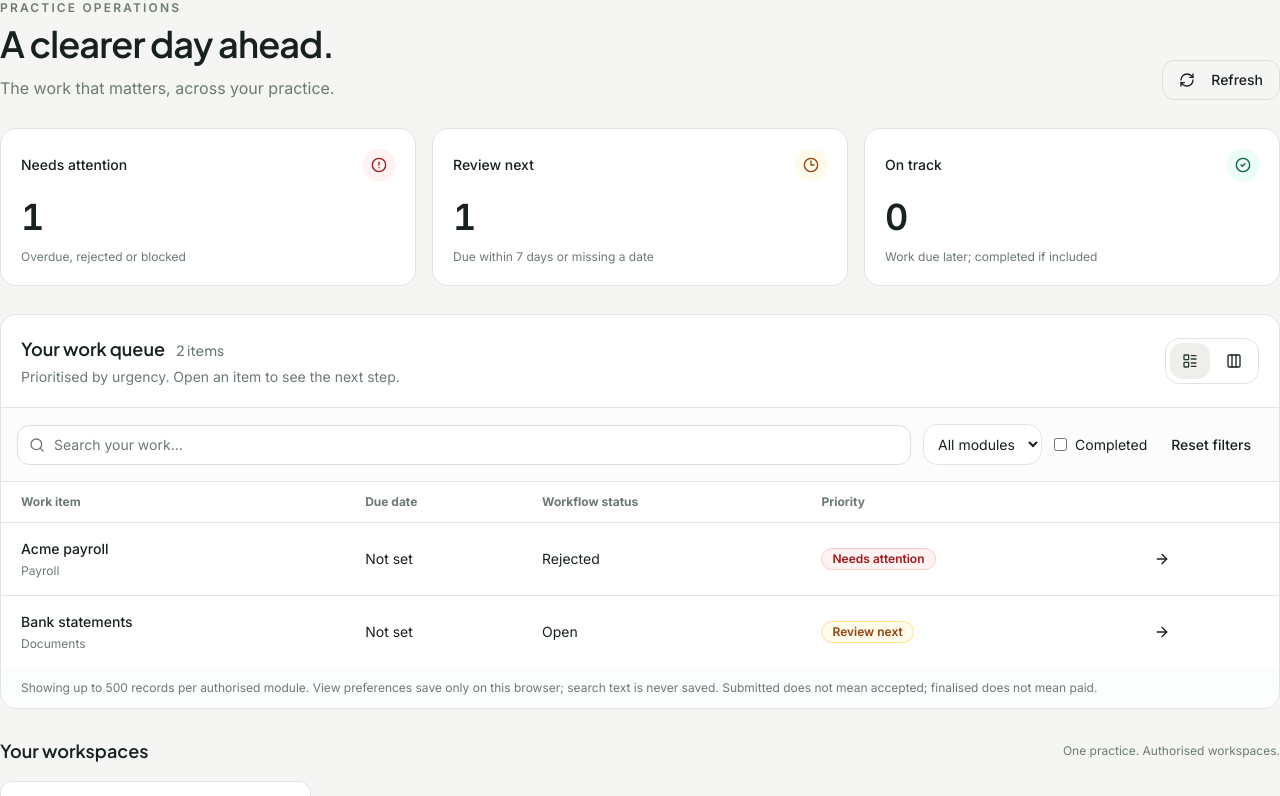
Test case: practice operations journeys › filters and explains an exception with its source action
Type "Acme" into the field named "Search work queue" at point(464, 444), box [17,424,911,464]
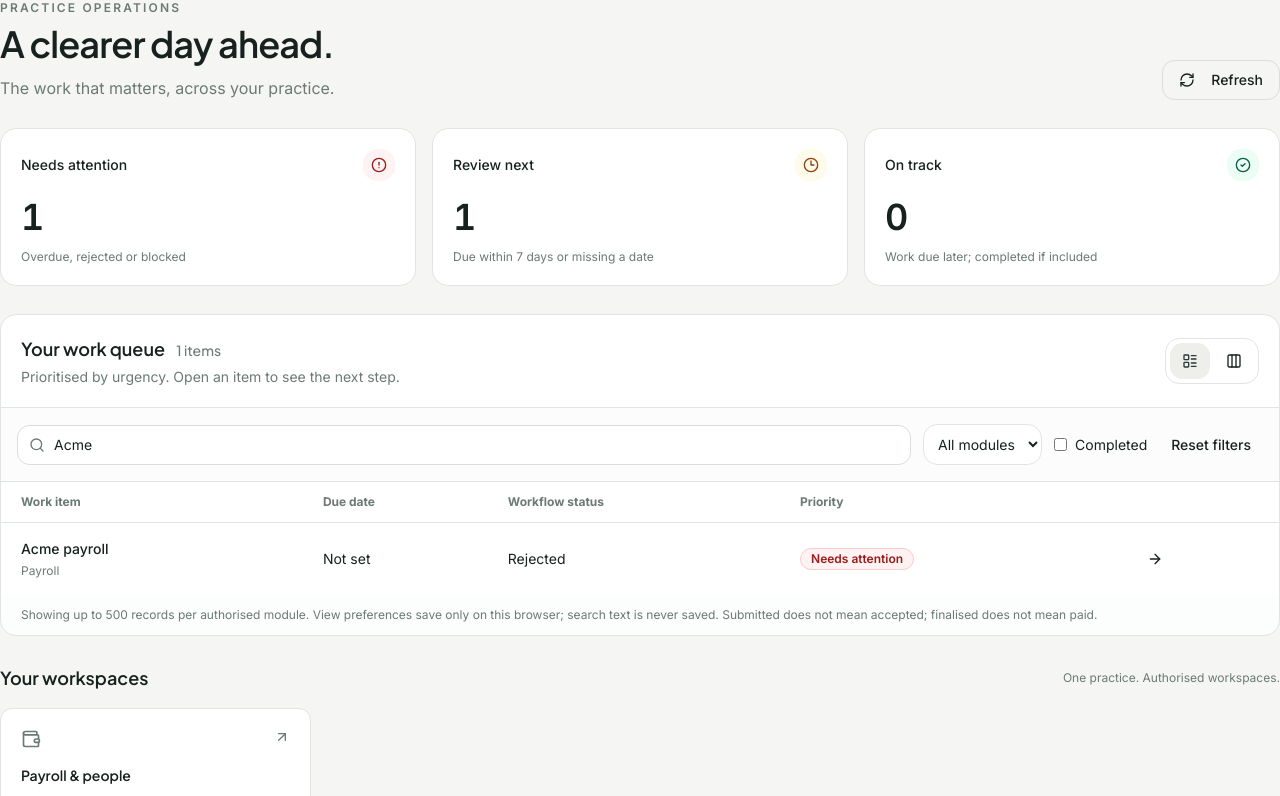
Check: the button "Bank statements" is gone
Click the button "Acme payroll" at point(65, 549), box [21,539,108,559]
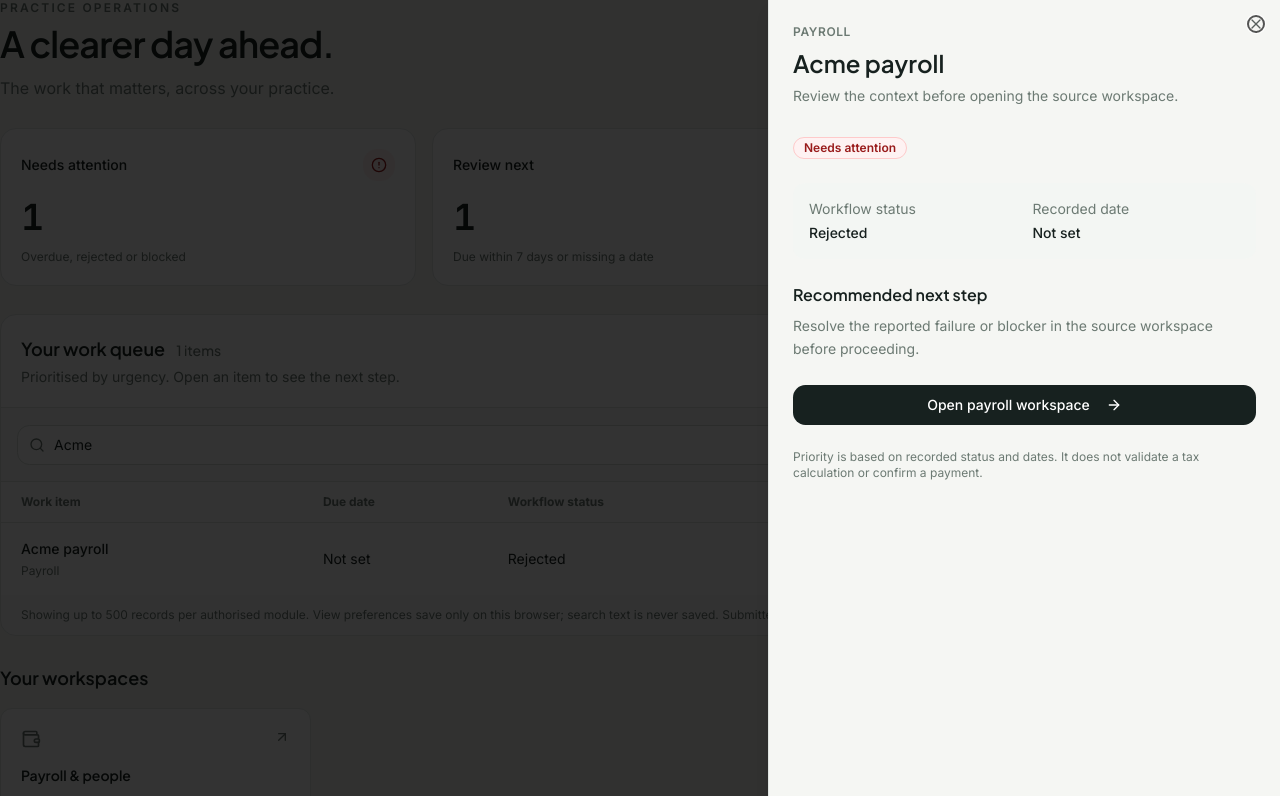
Check: the heading "Recommended next step" is shown, box [793,284,988,305]
